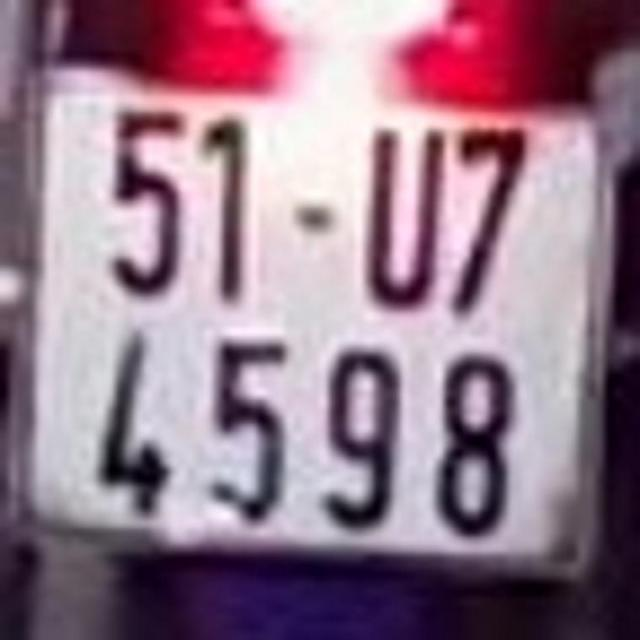1: (196, 105, 248, 306)
4: (93, 321, 175, 514)
5: (205, 330, 294, 522), (104, 107, 184, 296)
7: (452, 122, 527, 321)
8: (434, 344, 514, 542)
9: (320, 343, 403, 530)
U: (364, 121, 446, 314)
